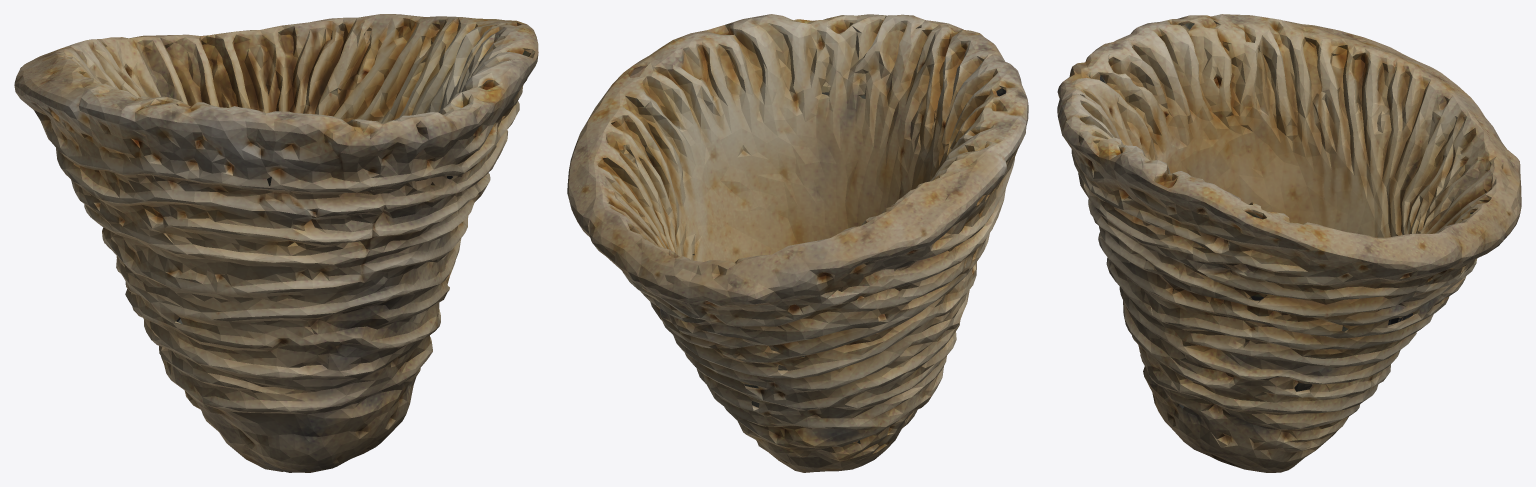
3 renders of one model, left to right at view 1: azimuth 30°, elevation 25°; view 2: azimuth 150°, elevation 25°; view 3: azimuth 270°, elevation 25°, orthographic. The views are drawn at different scales.
Visible parts, largest first — view 1: world; view 2: world; view 3: world.
Part boxes in pixels (box(x1,y1,x2,y2)): world: box(14, 14, 538, 472); world: box(567, 14, 1028, 472); world: box(1057, 14, 1521, 472).
Bounding box in the file's own units: 0.9683 × 0.8954 × 0.9986.
1 material, 1 textured.
